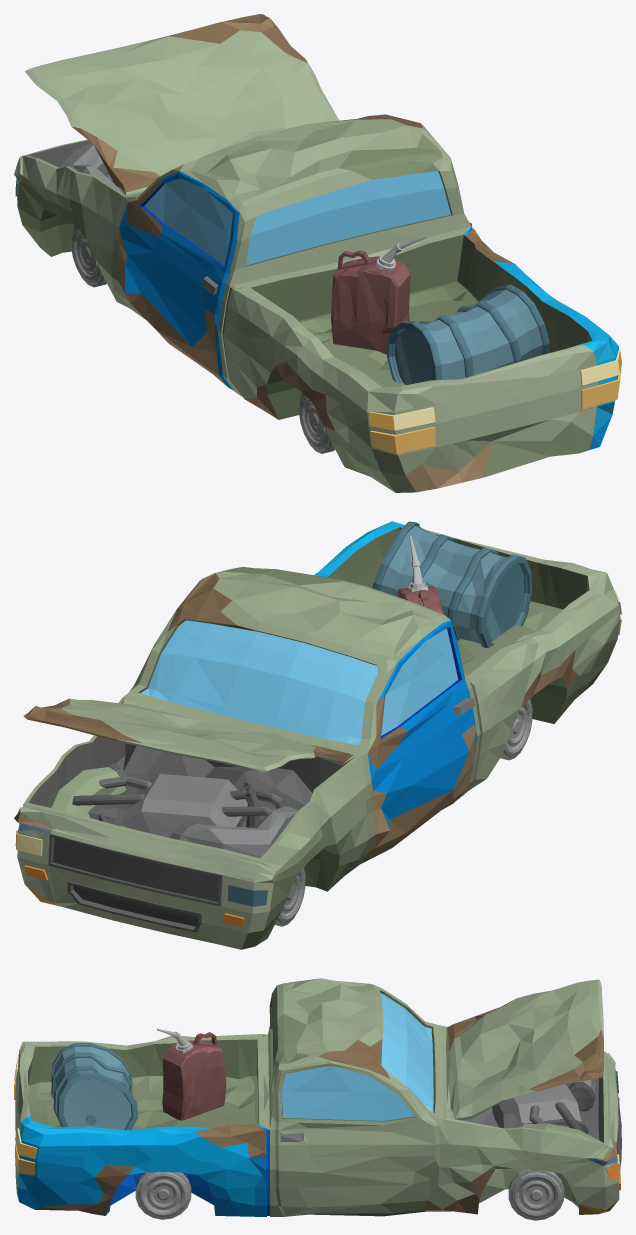
The model's file is car_wreck_1.obj.
3 renders of one model, top to bottom at view 1: azimuth 30°, elevation 25°; view 2: azimuth 150°, elevation 25°; view 3: azimuth 270°, elevation 25°, orthographic. The views are drawn at different scales.
Visible parts, largest first — view 1: car_Mesh, barrel_damaged_Mesh, jerry_can_nozzle_Mesh, wheels_Mesh; view 2: car_Mesh, barrel_damaged_Mesh, wheels_Mesh, jerry_can_nozzle_Mesh; view 3: car_Mesh, barrel_damaged_Mesh, jerry_can_nozzle_Mesh, wheels_Mesh.
Part boxes in pixels (left/top/right/bottom): car_Mesh: left=14, top=14, right=621, bottom=492; barrel_damaged_Mesh: left=387, top=284, right=549, bottom=385; jerry_can_nozzle_Mesh: left=331, top=236, right=427, bottom=354; wheels_Mesh: left=71, top=225, right=334, bottom=453; car_Mesh: left=14, top=521, right=621, bottom=949; barrel_damaged_Mesh: left=372, top=521, right=531, bottom=647; wheels_Mesh: left=275, top=699, right=532, bottom=926; jerry_can_nozzle_Mesh: left=397, top=535, right=443, bottom=614; car_Mesh: left=14, top=978, right=621, bottom=1216; barrel_damaged_Mesh: left=51, top=1043, right=137, bottom=1130; jerry_can_nozzle_Mesh: left=157, top=1029, right=226, bottom=1120; wheels_Mesh: left=135, top=1169, right=564, bottom=1220.
Size of the model in its own units: 2.08 by 1.6 by 5.08.
